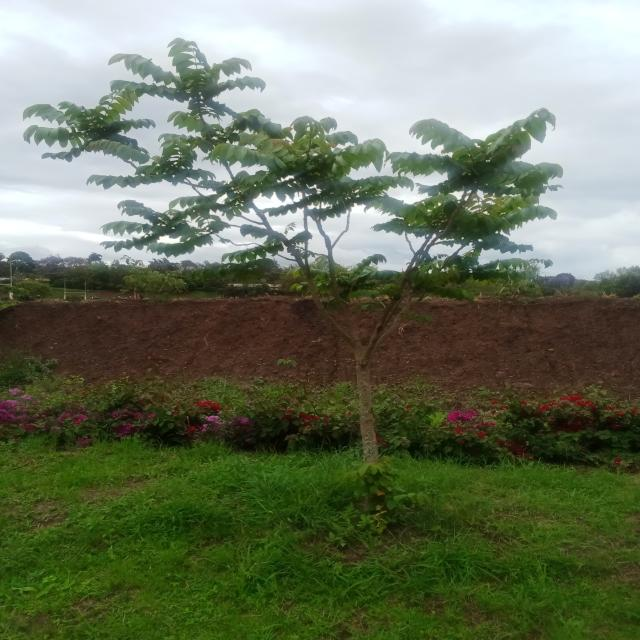Polyscias Kikuyensis: (14, 0, 639, 526)
